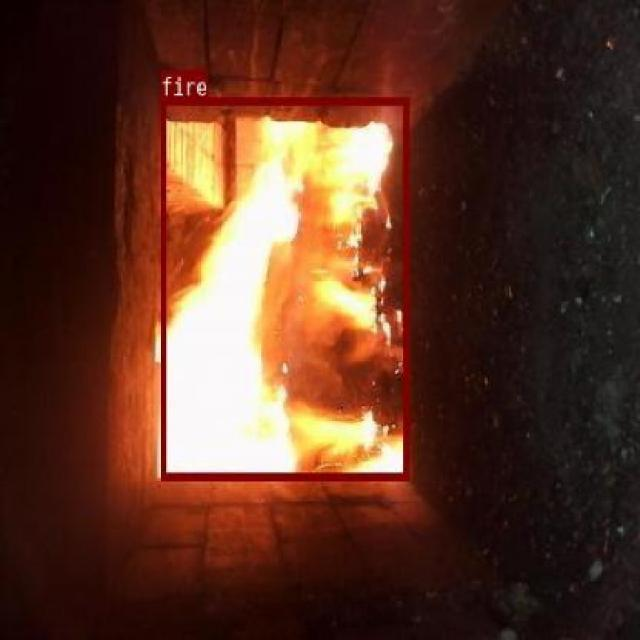Fire: (160, 96, 408, 479)
